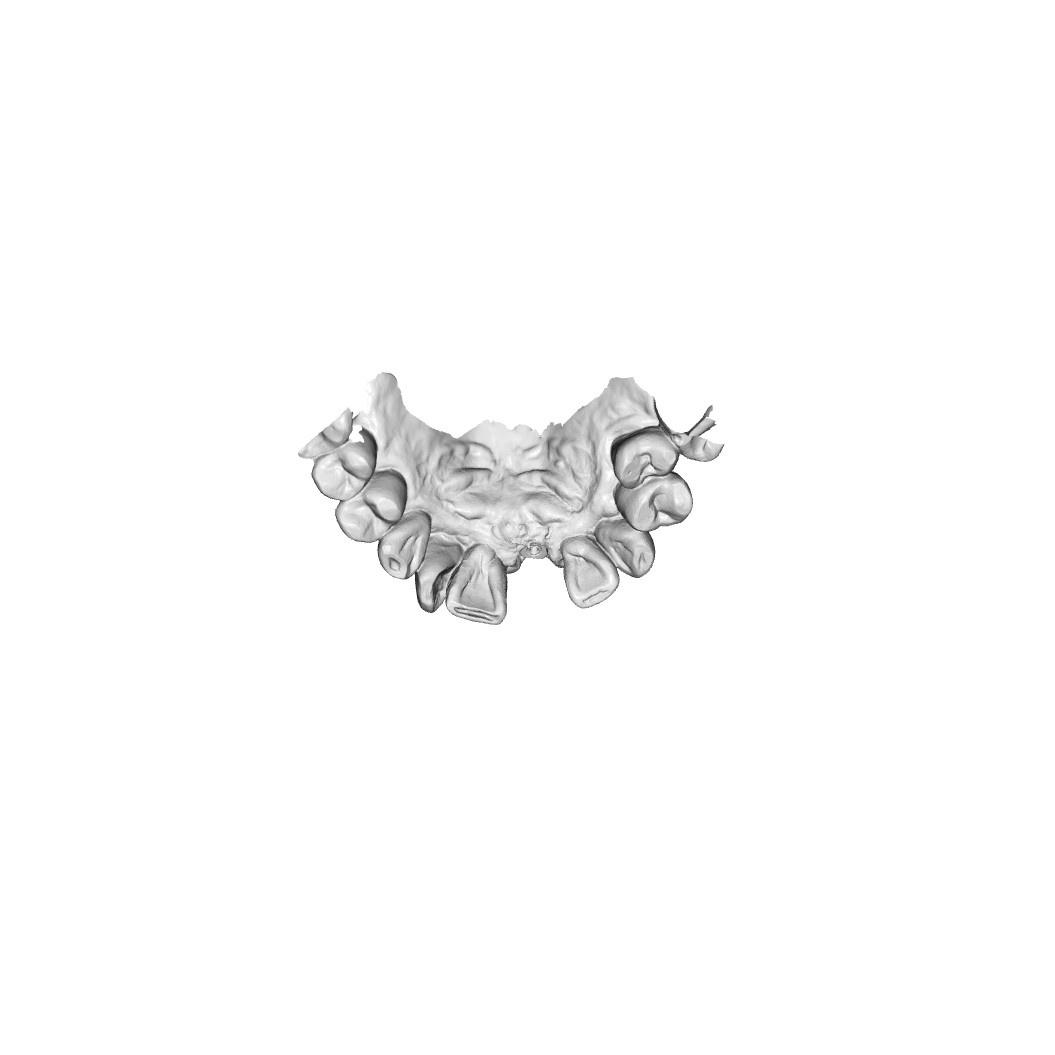canine: (376, 516, 431, 584), (603, 524, 657, 579)
incisor: (447, 546, 504, 622), (560, 540, 620, 609), (414, 541, 458, 613)
premolar: (332, 484, 402, 545), (311, 443, 379, 503), (612, 425, 678, 484), (619, 481, 697, 530)
